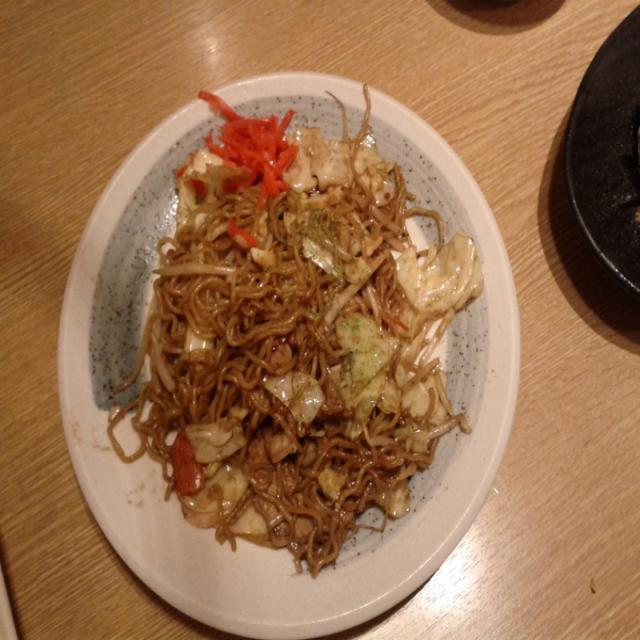面条主食: (45, 86, 528, 612)
